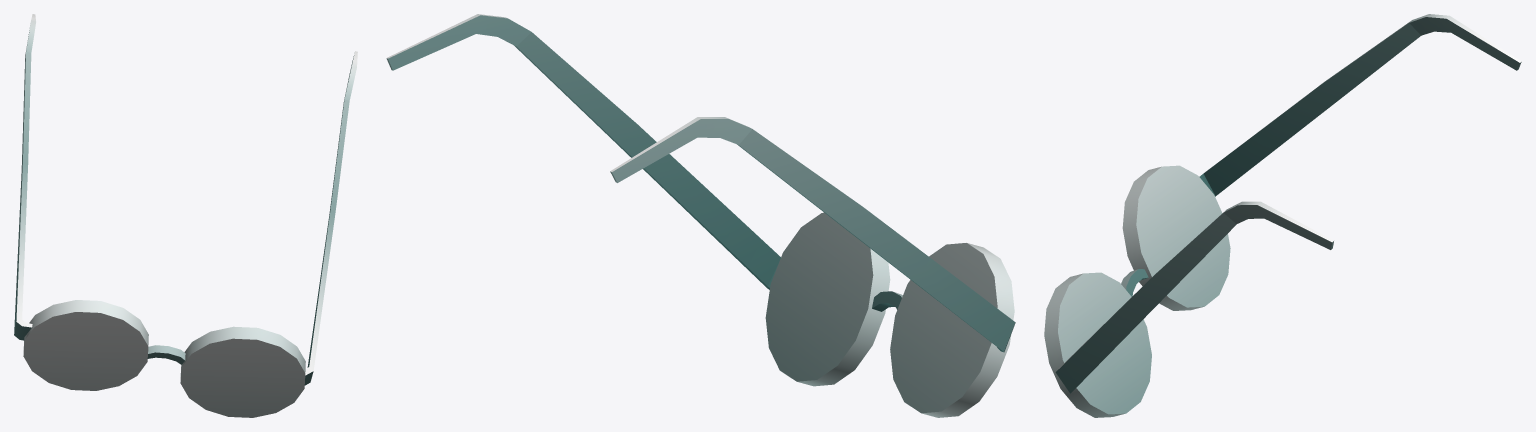
The model's file is Knowledge_Glasses.fbx.
The picture shows the model from 3 angles, left to right: view 1: azimuth 30°, elevation 25°; view 2: azimuth 150°, elevation 25°; view 3: azimuth 270°, elevation 25°; orthographic projection. The views are drawn at different scales.
Parts seen in each view (by area): view 1: Knowledge_Glasses; view 2: Knowledge_Glasses; view 3: Knowledge_Glasses.
Boxes of the visible parts, box(x1,y1,x2,y2) form: Knowledge_Glasses: box(14, 14, 357, 417); Knowledge_Glasses: box(386, 14, 1015, 417); Knowledge_Glasses: box(1044, 14, 1521, 417).
Size of the model in its own units: 14.01 by 10.44 by 12.62.
